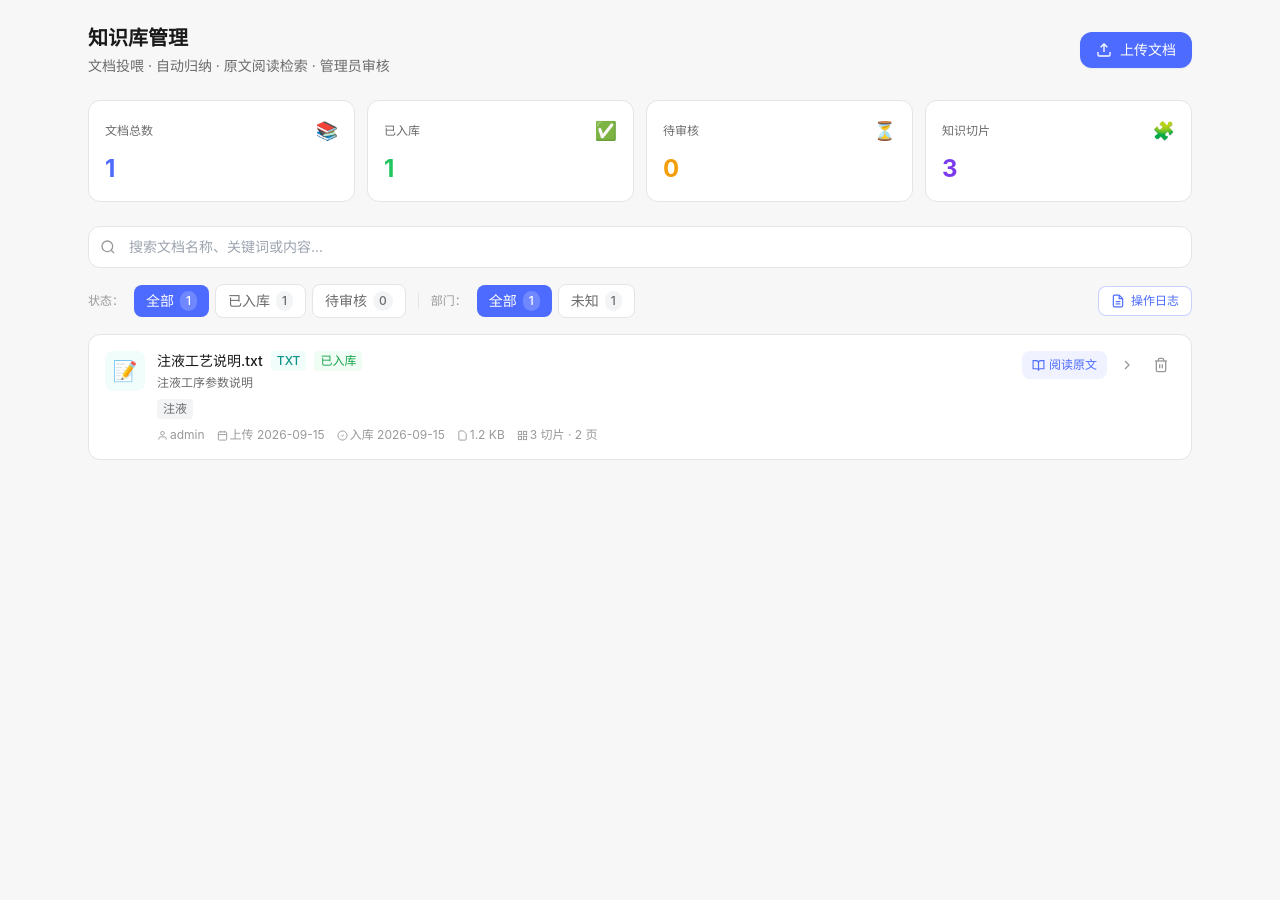
Test: KnowledgeBase › .txt 纯文本：列表显示 TXT 标签，点「阅读原文」直接渲染已解码正文
Expected: the text "TXT" is shown, top-left (271, 351), bottom-right (306, 371)
Expected: the text "注液工艺说明.txt" is shown, top-left (157, 351), bottom-right (263, 371)
直接点卡片右上角「阅读原文」→ 原文弹窗渲染已入库的正文（无需再下载原文件）
Click the button "阅读原文" at [1064, 365], box top-left (1022, 351), bottom-right (1107, 379)
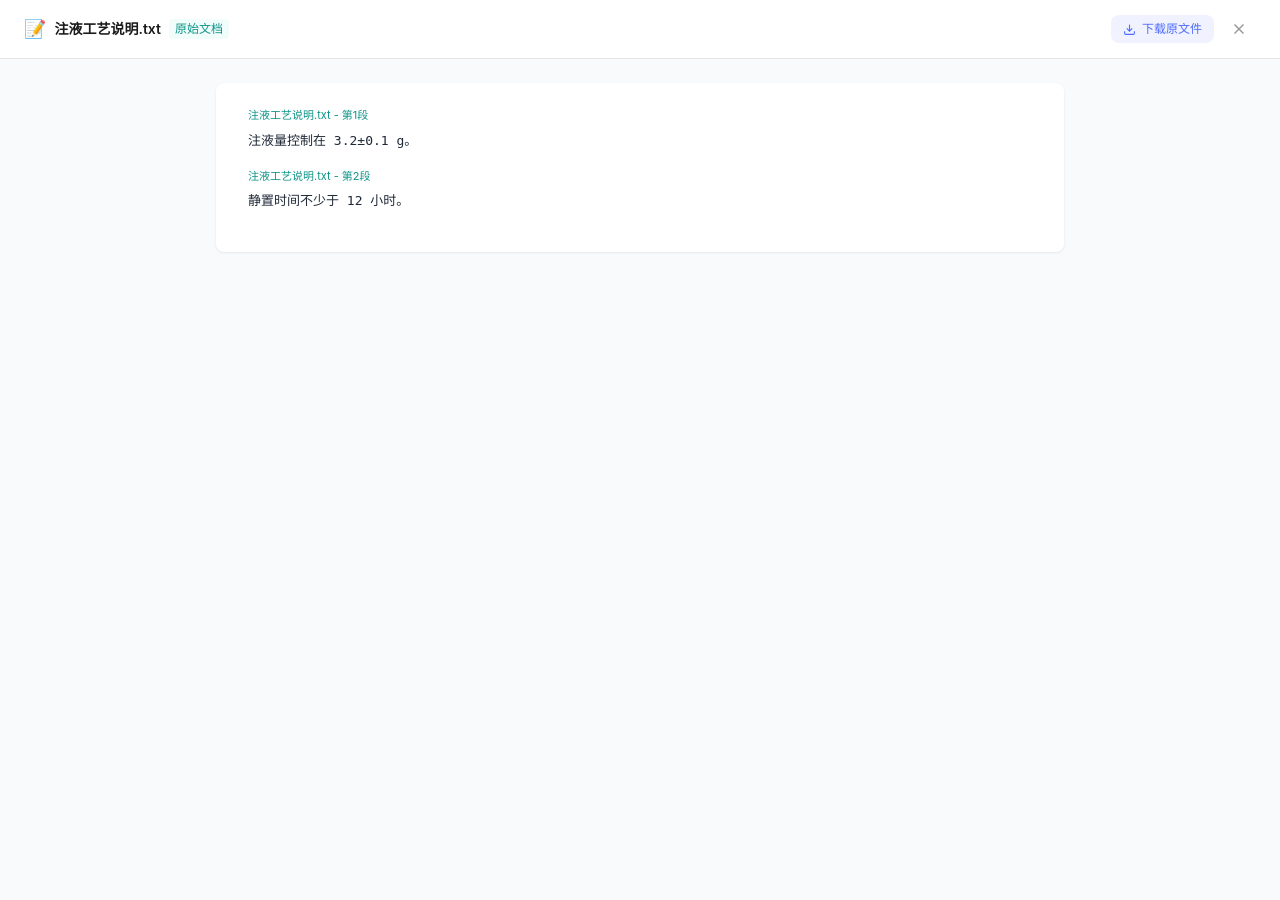
Expected: the text "注液量控制在 3.2±0.1 g。" is shown, top-left (248, 133), bottom-right (417, 148)
Expected: the text "注液工艺说明.txt - 第2段" is shown, top-left (248, 169), bottom-right (370, 183)
